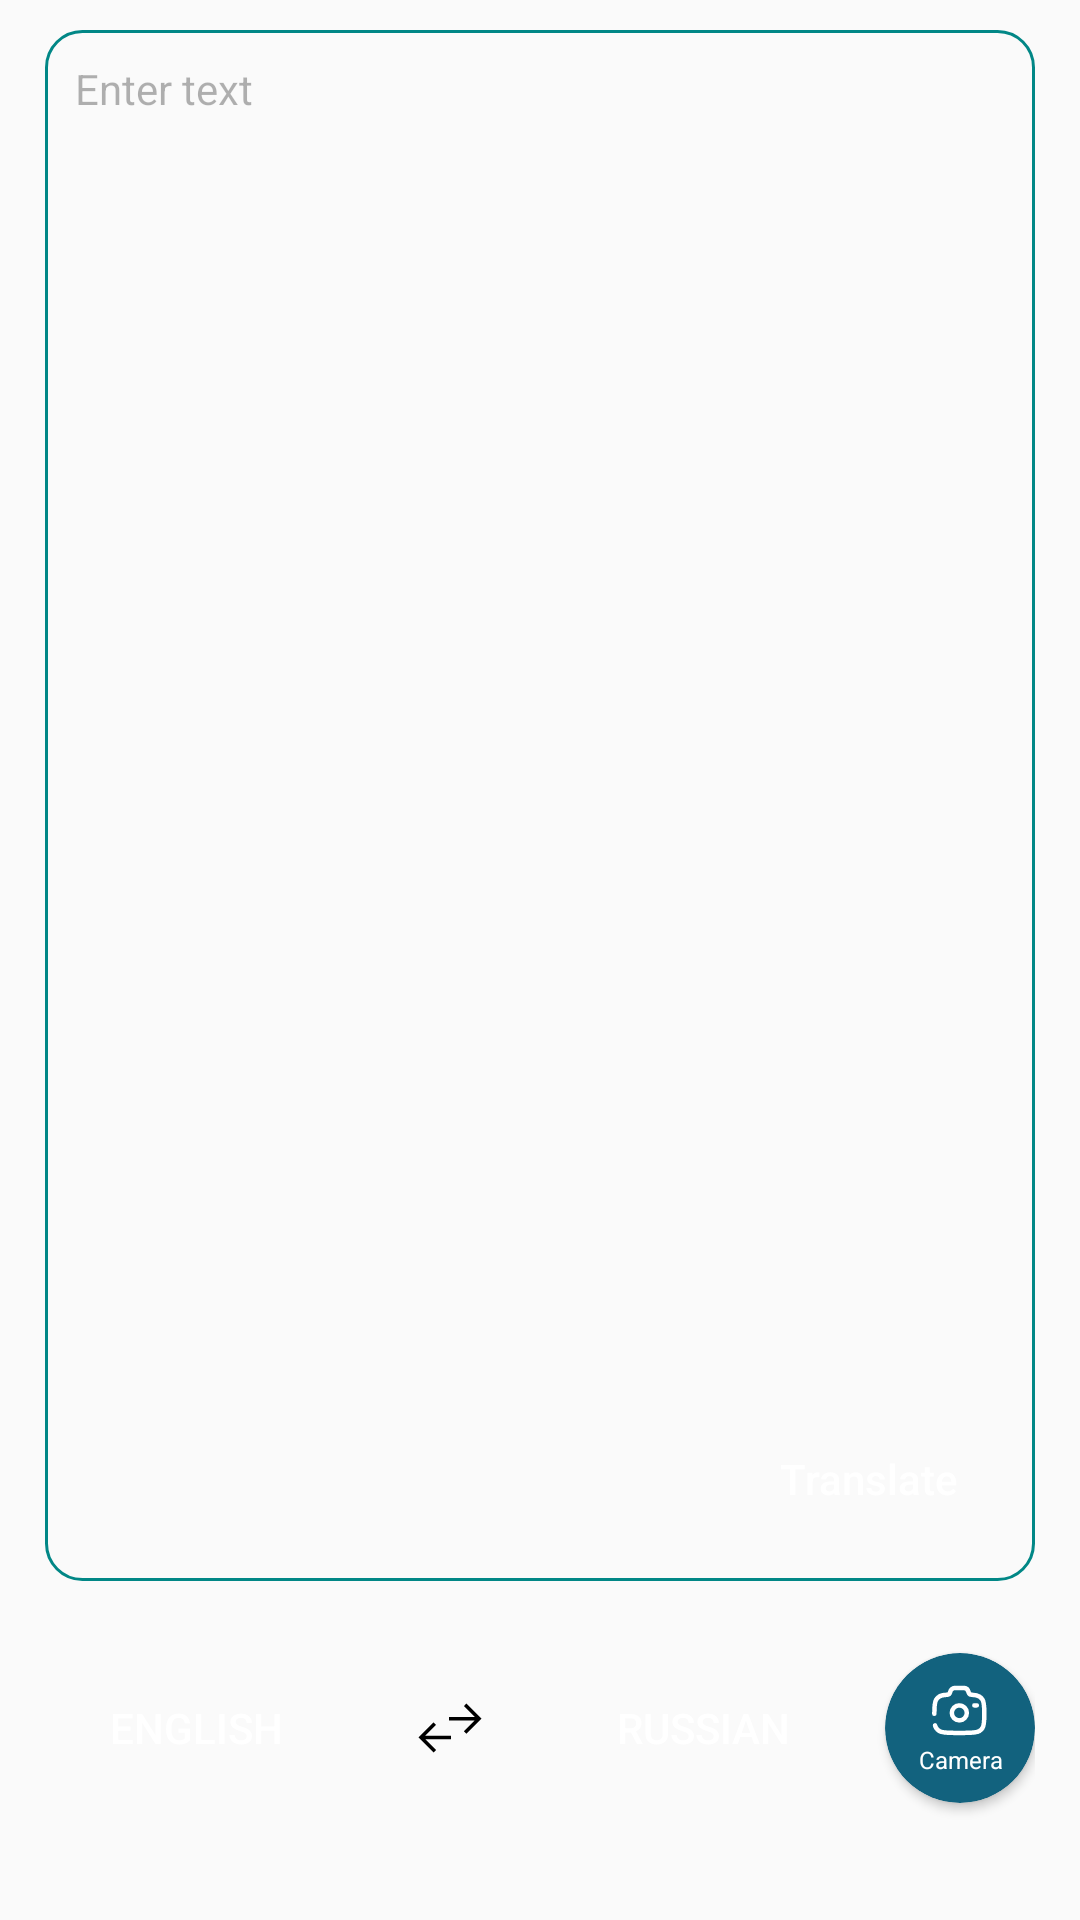

Named icons in this screenshot (1080px×1920px) and their centers, [x,y]:
swap: [450,1728]
